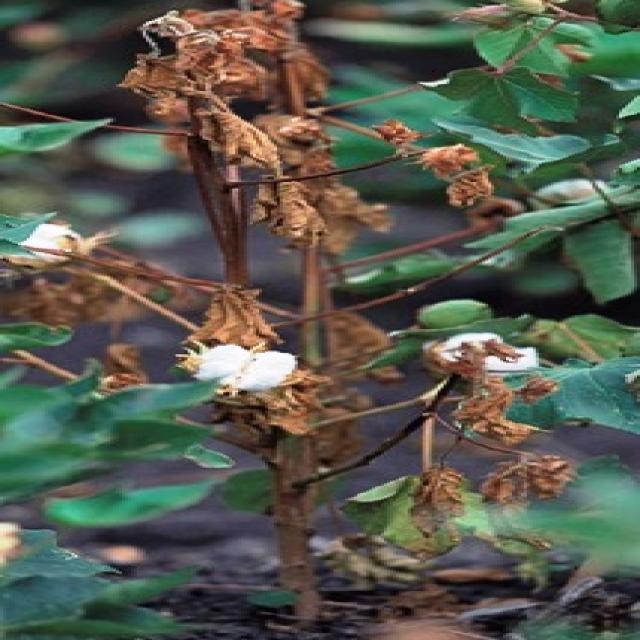Fusarium Wilt: (7, 3, 611, 640)
